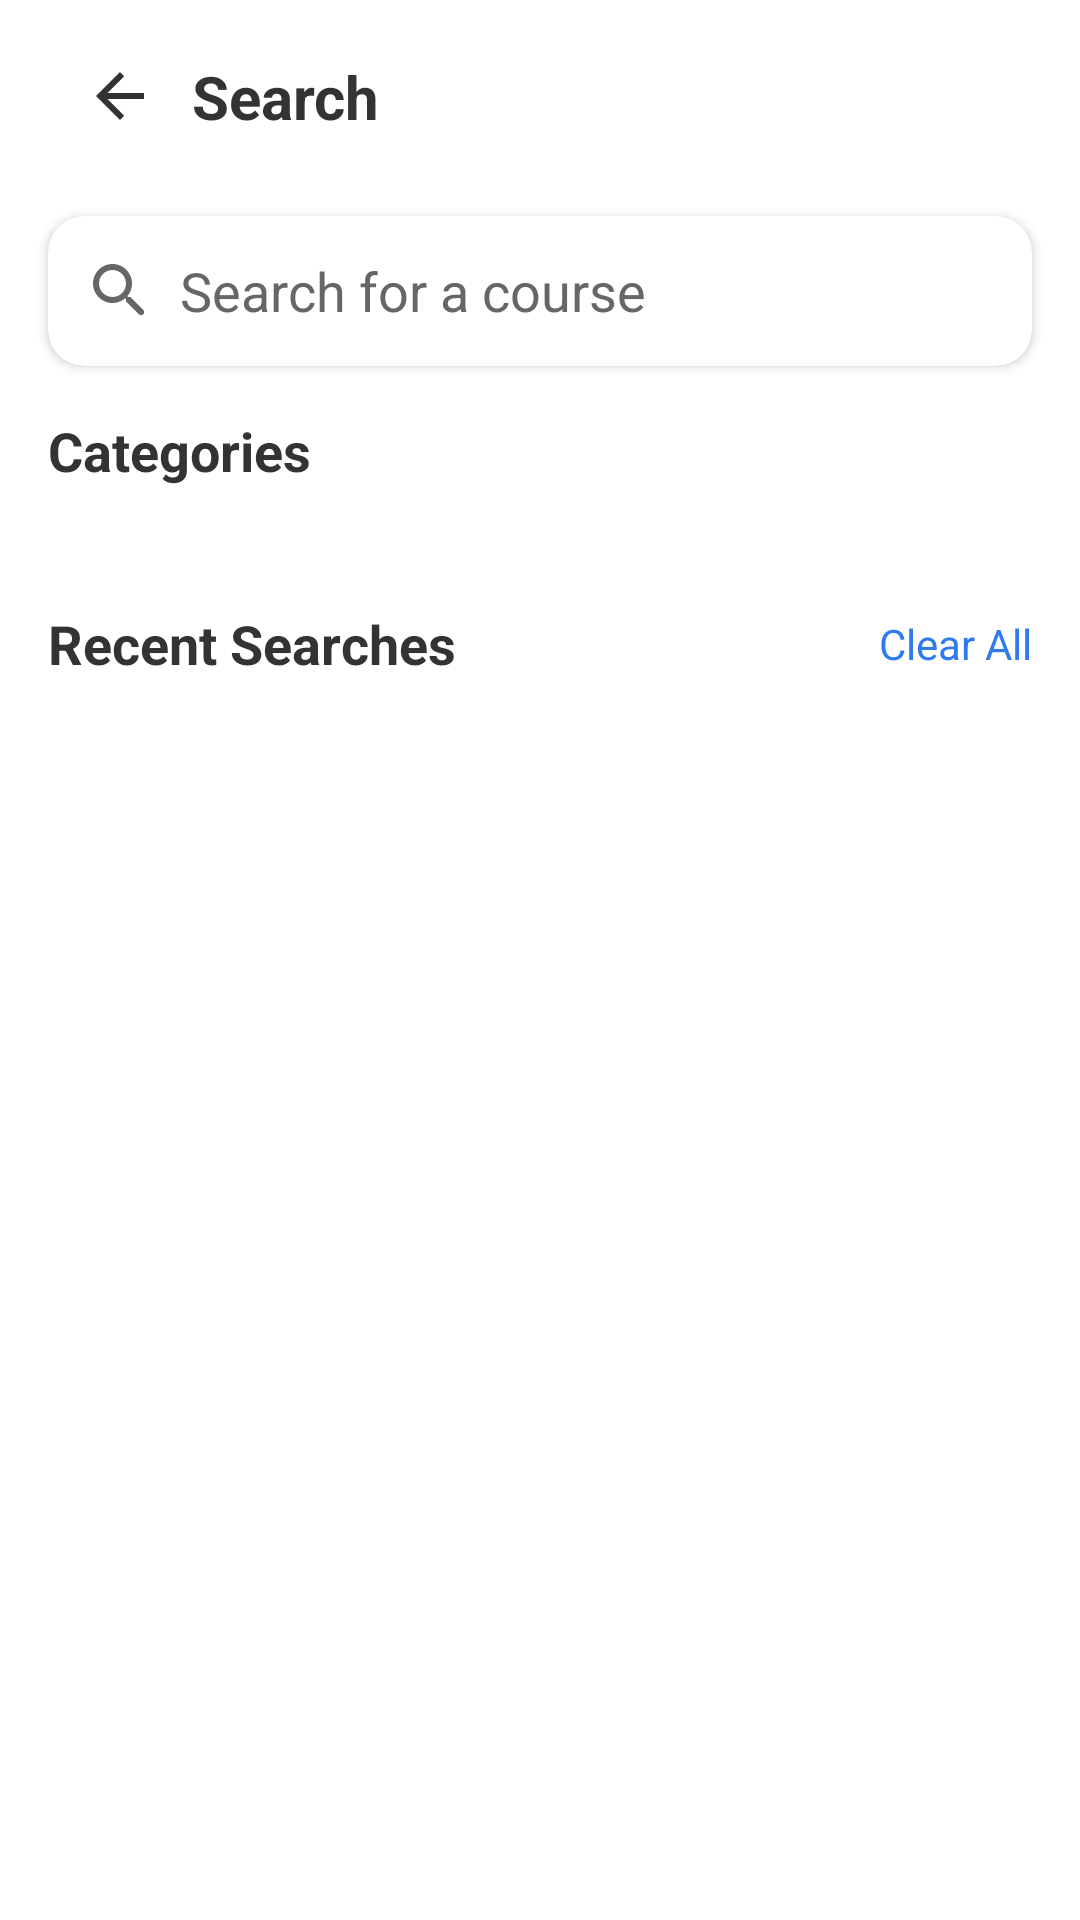

Screen size 1080w x 1920h. Icon name, then its center in pixels as (x,y):
Back Button: (120,96)
